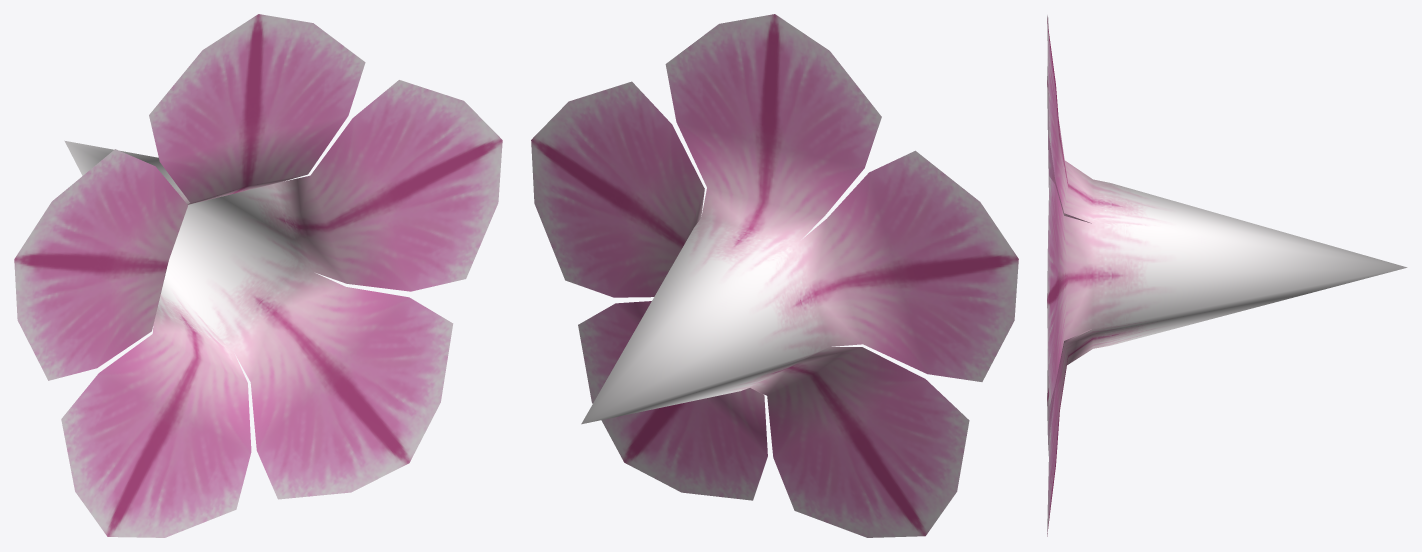
File: morning glory.fbx
The picture shows the model from 3 angles, left to right: view 1: azimuth 30°, elevation 25°; view 2: azimuth 150°, elevation 25°; view 3: azimuth 270°, elevation 25°; orthographic projection. The views are drawn at different scales.
Parts seen in each view (by area): view 1: morning glory; view 2: morning glory; view 3: morning glory.
Part boxes in pixels (x1,y1,x2,y2): morning glory: [14, 14, 502, 537]; morning glory: [531, 14, 1018, 537]; morning glory: [1047, 15, 1407, 536].
Bounding box in the file's own units: 381 × 373 × 262.
